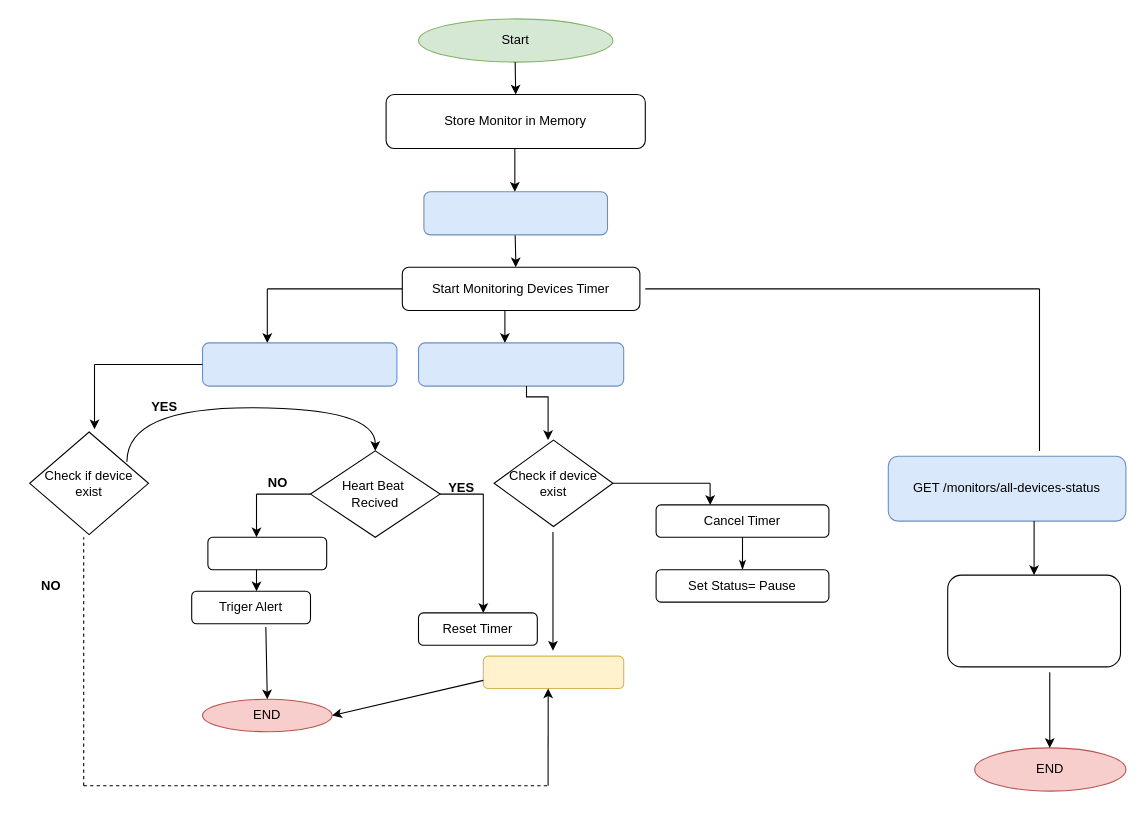
Image size: 1145x813. Some labels were removed from this diagram. The centre of each missing label's shape, as x and y in pixels:
Check all devices status and Return ALIVE DOWN PAUSE: the point at 1033,620
POST /monitor Register Moniter: the point at 515,213
POST /monitors/device-id/heartbeat: the point at 299,364
POST /monitors/device-id/pause: the point at 520,364
Return 404, Device Not Found: the point at 553,671
Timer Expire: the point at 267,553
